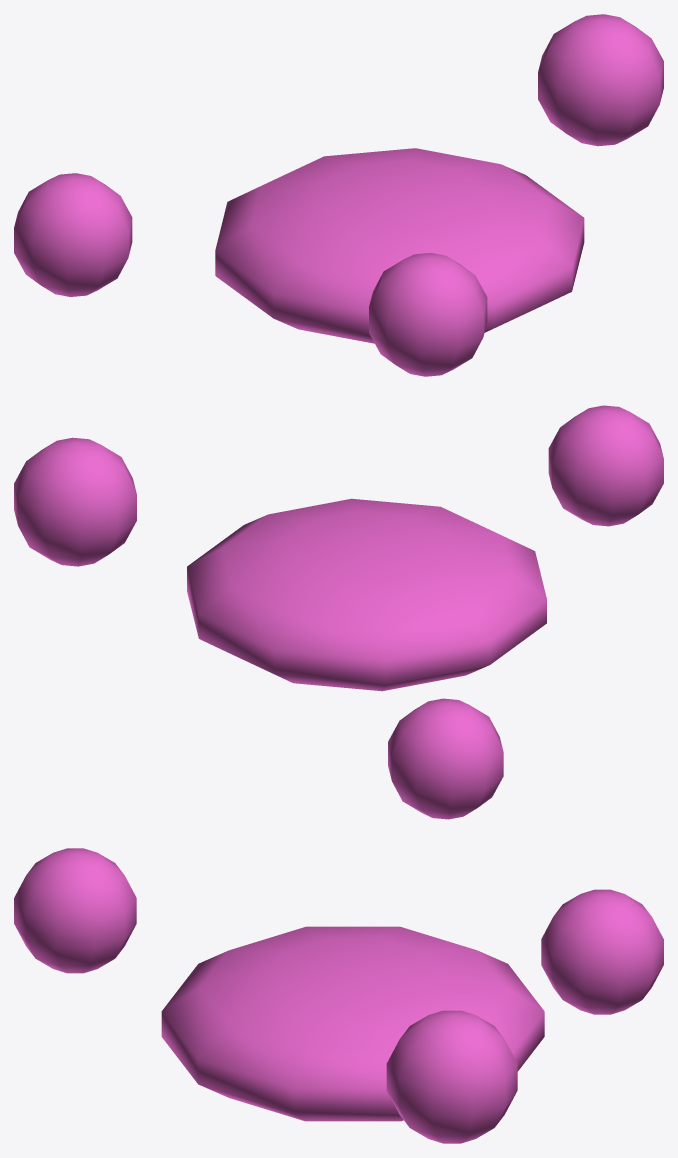
File: slickstar.fbx
3 renders of one model, top to bottom at view 1: azimuth 30°, elevation 25°; view 2: azimuth 150°, elevation 25°; view 3: azimuth 270°, elevation 25°, orthographic. The views are drawn at different scales.
Parts seen in each view (by area): view 1: 球; view 2: 球; view 3: 球.
Part boxes in pixels (x1=…): 球: x1=14, y1=14, x2=663, y2=376; 球: x1=14, y1=405, x2=663, y2=819; 球: x1=14, y1=848, x2=663, y2=1143.
Size of the model in its own units: 332 by 122 by 331.
